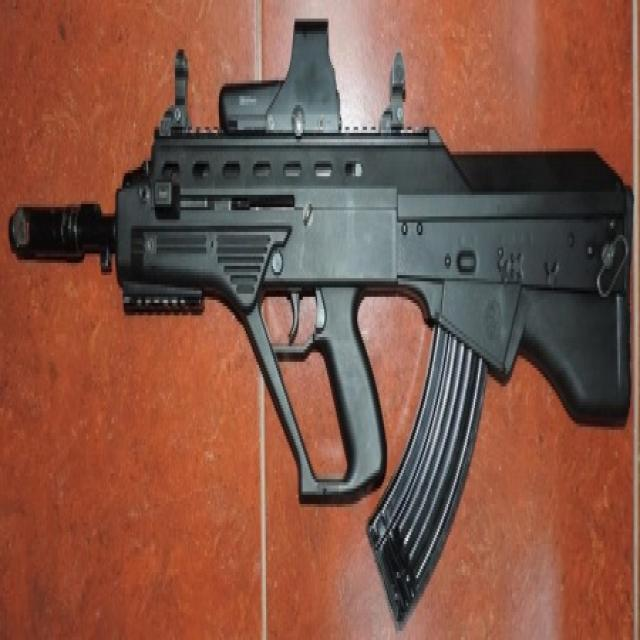rifle: (6, 3, 640, 640)
